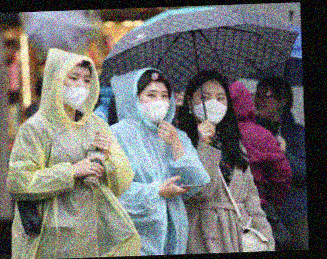with_mask: (191, 88, 228, 126), (61, 68, 93, 111), (138, 86, 172, 124)
without_mask: (250, 87, 277, 118)
